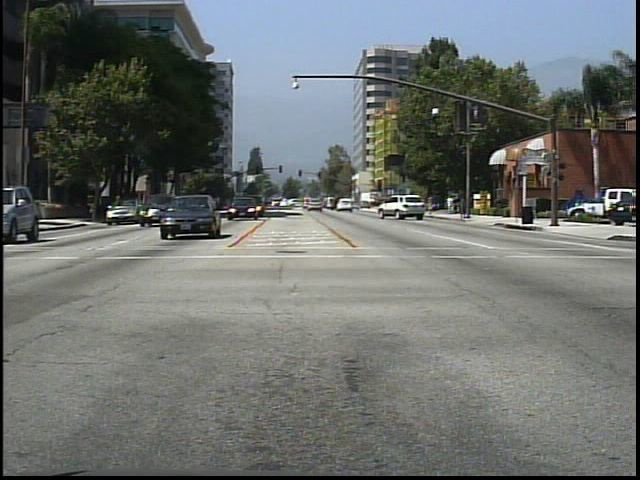person: (420, 191, 438, 217), (446, 194, 457, 216)
